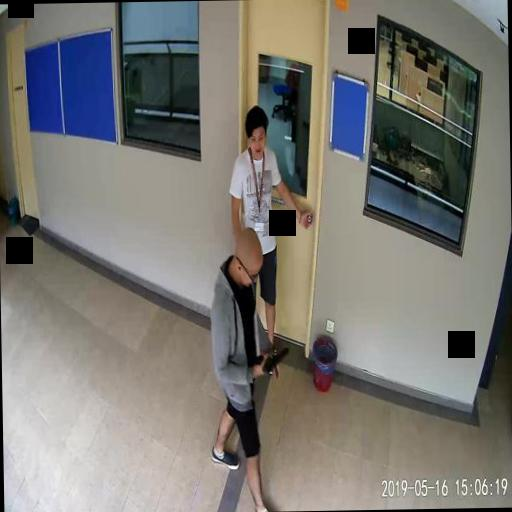Handgun: (255, 346, 287, 372)
